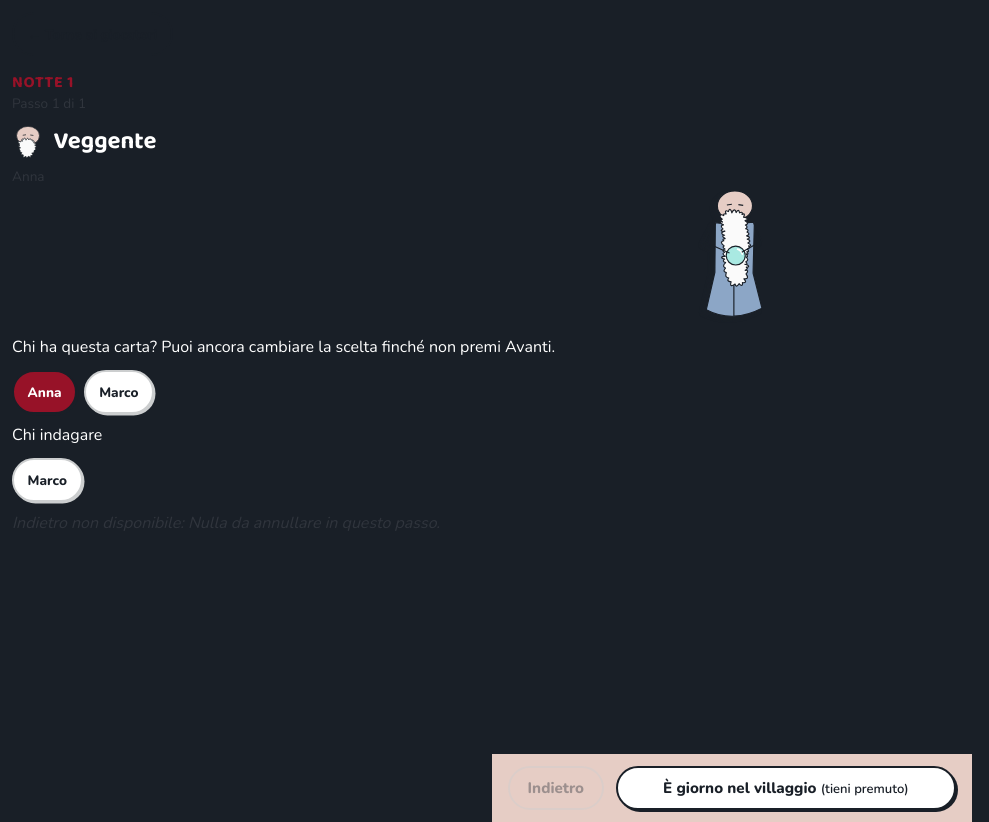
una volta avanzati oltre il primo passo, "Torna ai giocatori" non è più disponibile
The width and height of the screenshot is (989, 822).
Press the mouse on the button "È giorno nel villaggio (tieni premuto)" at (786, 788), box [616, 766, 956, 810]
Wait 1300 ms
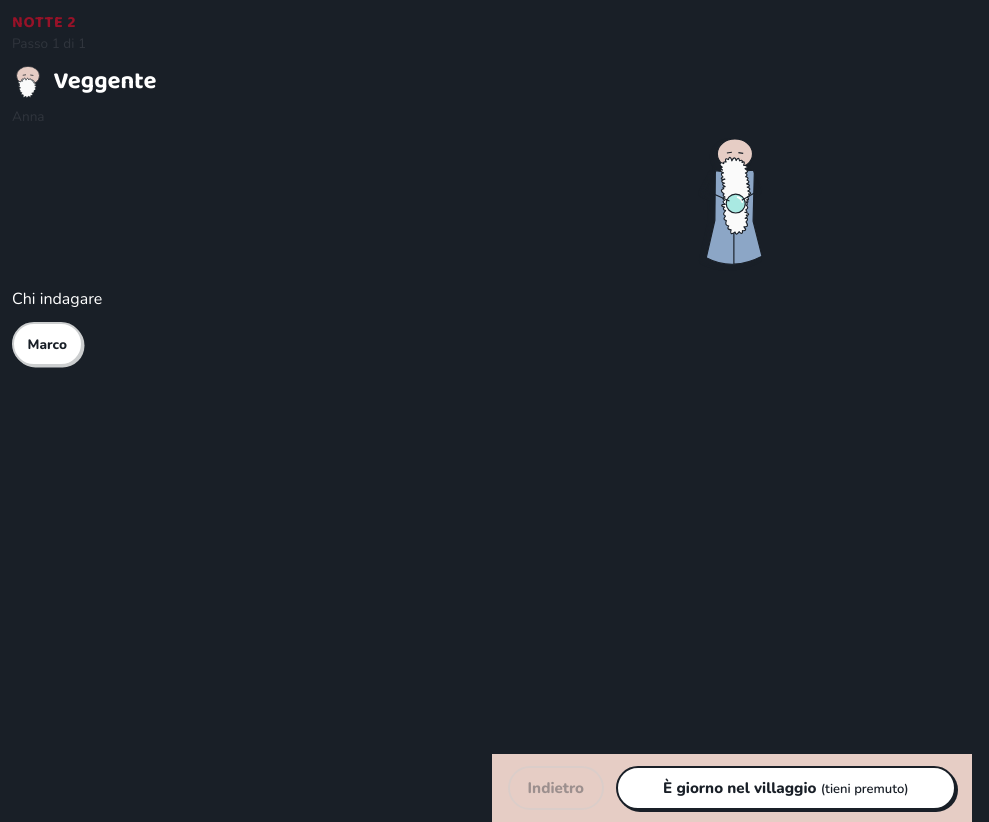
Result: the button "Torna ai giocatori" is gone
